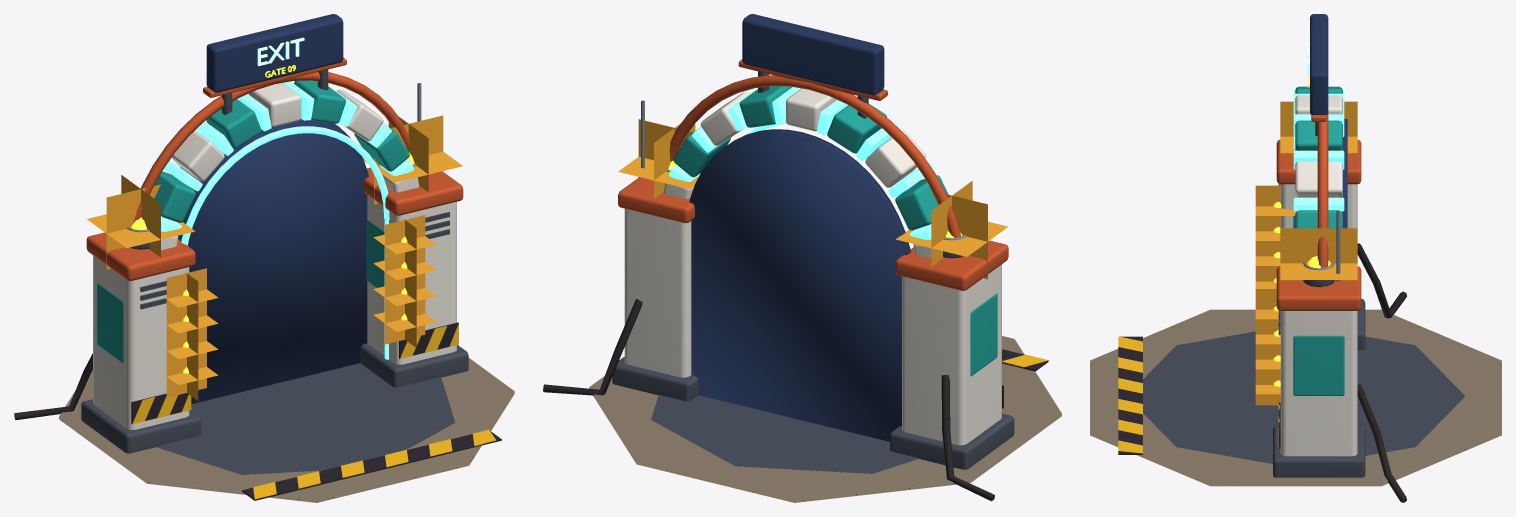
The model's file is dune_portal_arch.glb.
3 views of the same model, side by side, from view 1: azimuth 30°, elevation 25°; view 2: azimuth 150°, elevation 25°; view 3: azimuth 270°, elevation 25° (orthographic). The views are drawn at different scales.
Visible parts, largest first — view 1: PortalArch; view 2: PortalArch; view 3: PortalArch.
Boxes of the visible parts, x1,y1,x2,y2 form: PortalArch: (14, 14, 514, 502); PortalArch: (543, 14, 1061, 502); PortalArch: (1090, 14, 1501, 502).
Size of the model in its own units: 6.33 by 5.13 by 5.36.
